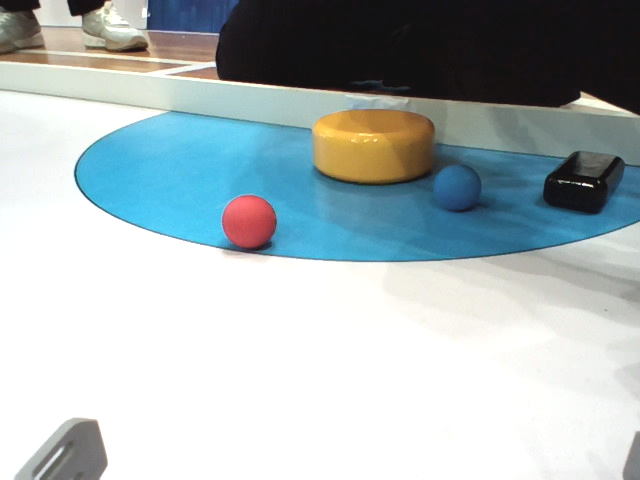black: (543, 139, 628, 227)
blue: (431, 164, 484, 208)
red: (217, 195, 276, 247)
yellow: (307, 106, 439, 183)
